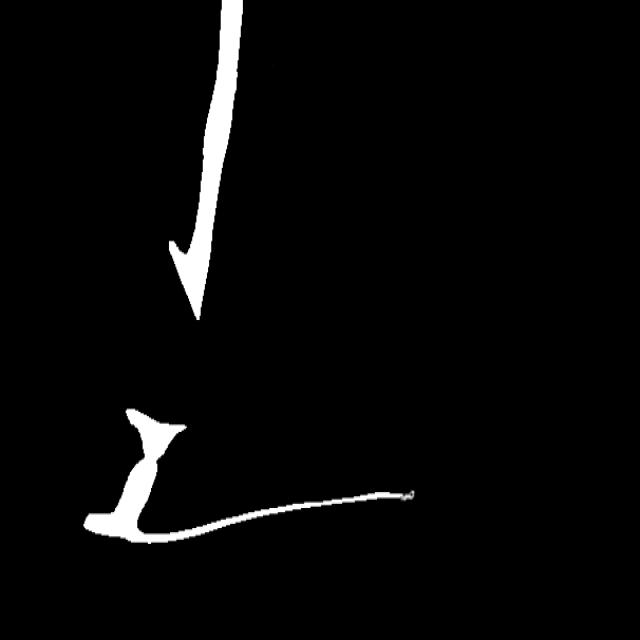stp: (390, 488, 421, 502)
